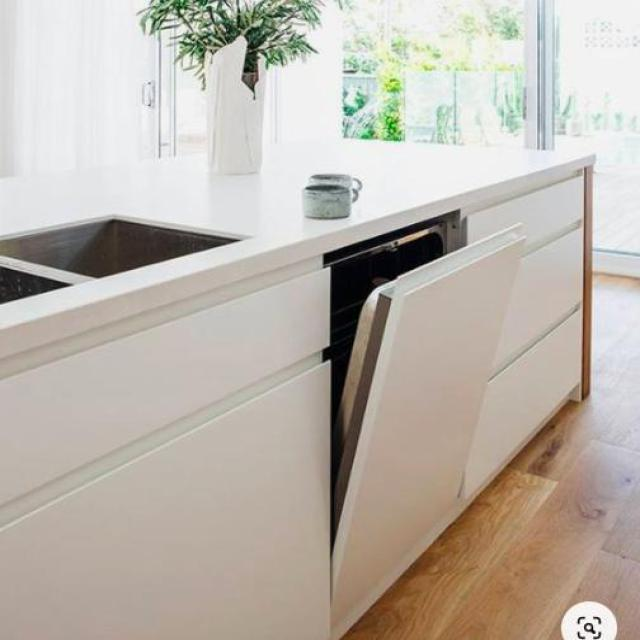dishwasher: (330, 211, 527, 622)
